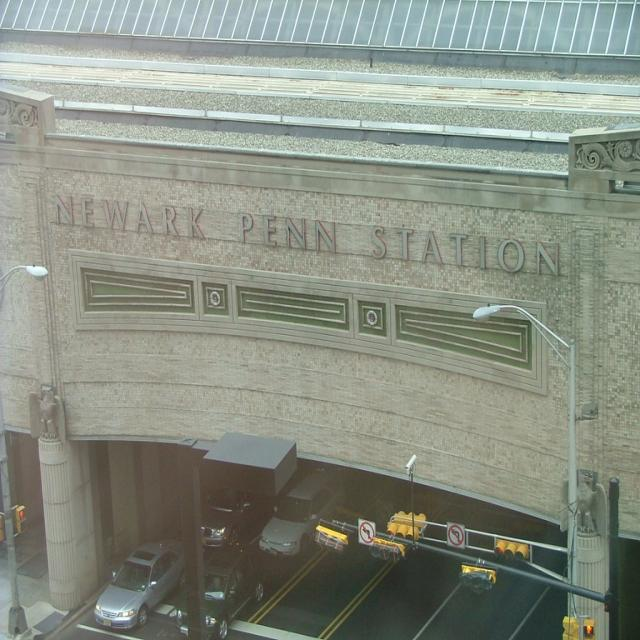car: (91, 543, 187, 629)
